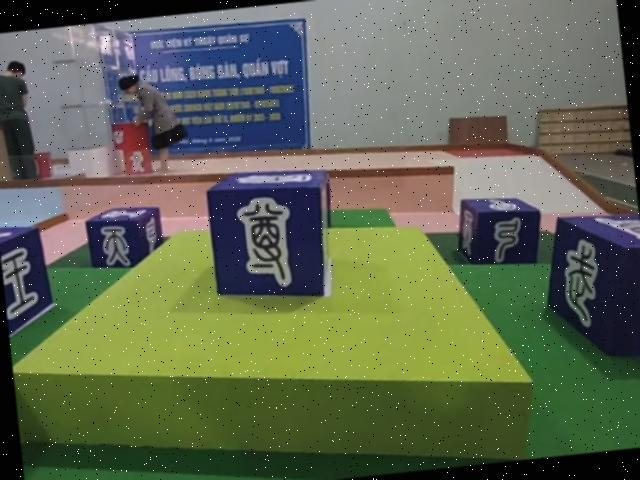R2 Fake Blue: (201, 165, 340, 310), (537, 210, 640, 374), (452, 192, 545, 274), (0, 220, 58, 346), (82, 205, 165, 275)
